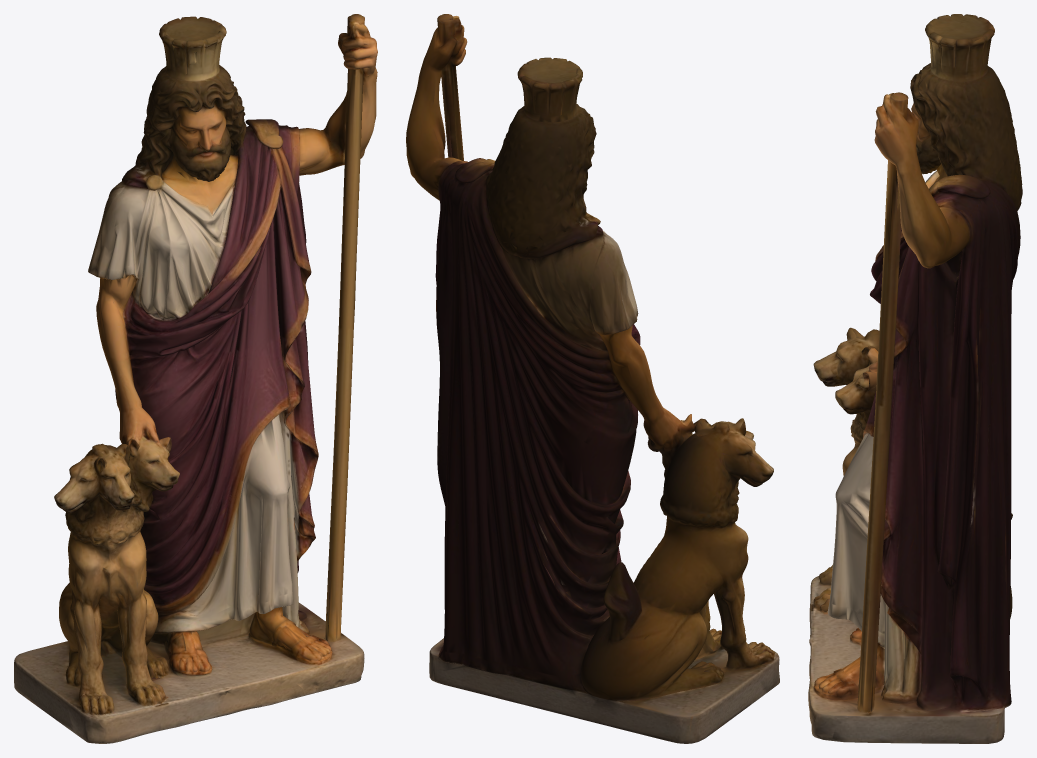
The model's file is serapis.glb.
3 renders of one model, left to right at view 1: azimuth 30°, elevation 25°; view 2: azimuth 150°, elevation 25°; view 3: azimuth 270°, elevation 25°, orthographic. The views are drawn at different scales.
Parts seen in each view (by area): view 1: node_0; view 2: node_0; view 3: node_0.
Part boxes in pixels (bbox=[...]): node_0: bbox=[14, 14, 377, 743]; node_0: bbox=[406, 14, 779, 743]; node_0: bbox=[808, 14, 1022, 743].
Bounding box in the file's own units: 0.5963 × 1.05 × 0.3054.
Materials: 1 (1 with a texture image).
